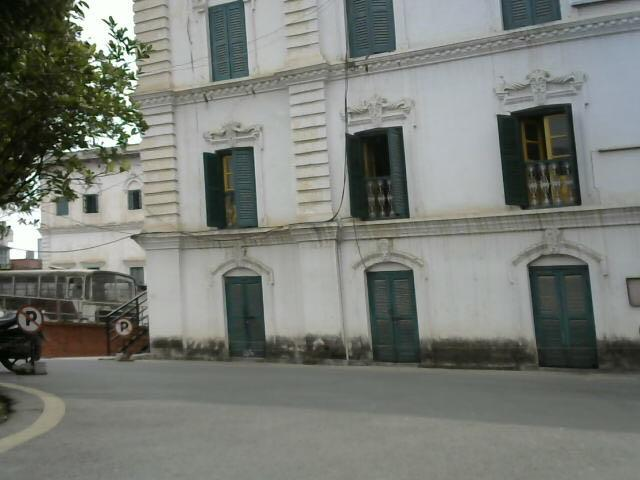Building: (134, 0, 640, 382)
Road: (0, 364, 640, 480)
Traffic sign: (19, 306, 66, 389), (114, 316, 141, 362)
Tree: (0, 0, 147, 218)
